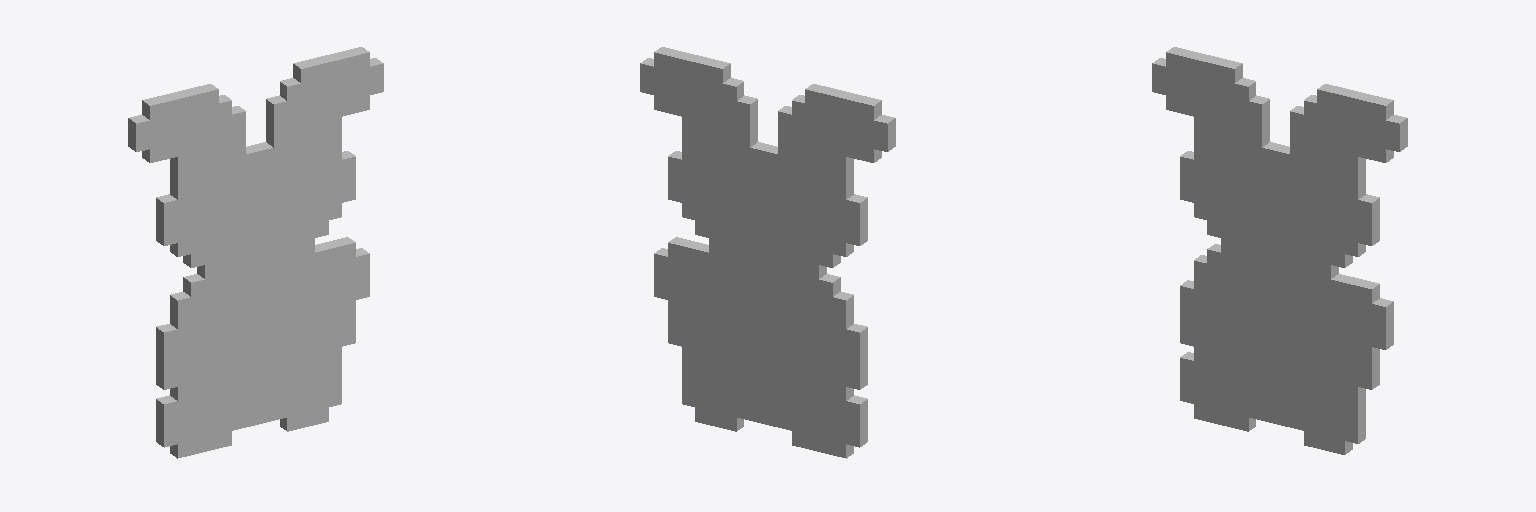
File: rabbit throw.obj
3 renders of one model, left to right at view 1: azimuth 30°, elevation 25°; view 2: azimuth 150°, elevation 25°; view 3: azimuth 330°, elevation 25°, orthographic.
Parts seen in each view (by area): view 1: object 1; view 2: object 1; view 3: object 1.
Boxes of the visible parts, <box> form: object 1: <box>128,47,383,458</box>; object 1: <box>640,47,895,458</box>; object 1: <box>1152,47,1407,454</box>.
Size of the model in its own units: 1.8 by 2.5 by 0.1.